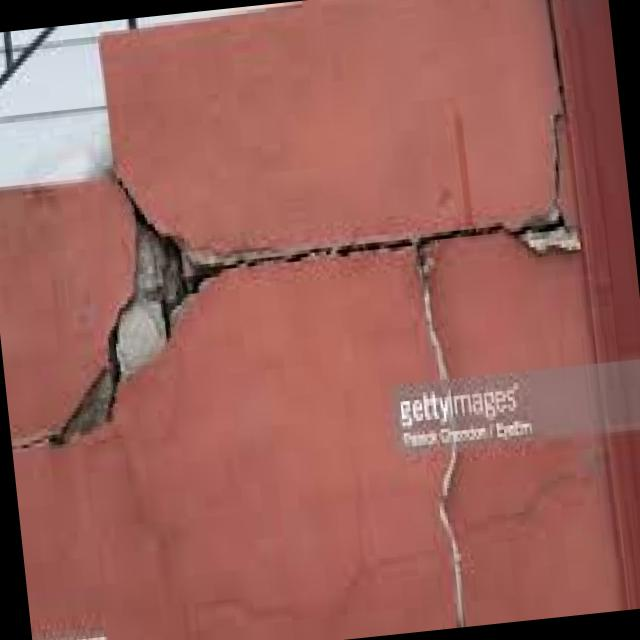crack: (0, 154, 236, 453), (215, 207, 583, 287), (404, 236, 476, 622), (521, 0, 581, 213)
